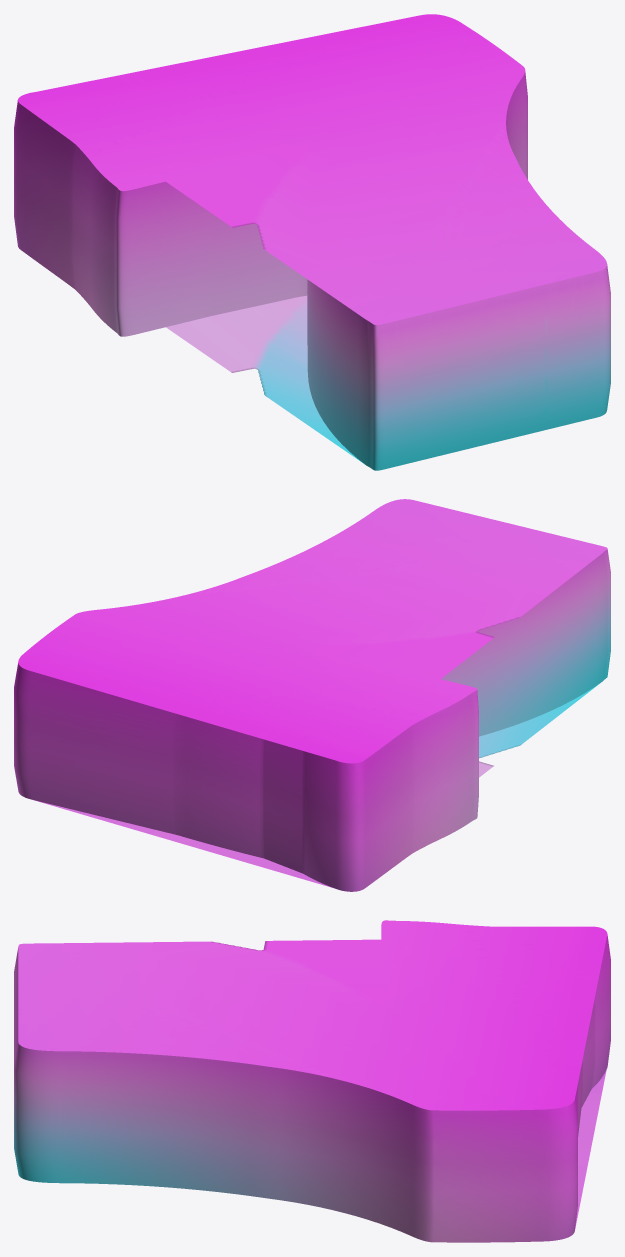
3 renders of one model, top to bottom at view 1: azimuth 30°, elevation 25°; view 2: azimuth 150°, elevation 25°; view 3: azimuth 270°, elevation 25°, orthographic. The views are drawn at different scales.
Parts seen in each view (by area): view 1: Curve.007; view 2: Curve.007; view 3: Curve.007.
Boxes of the visible parts, x1=… form: Curve.007: x1=14, y1=14, x2=610, y2=470; Curve.007: x1=14, y1=499, x2=610, y2=891; Curve.007: x1=14, y1=920, x2=610, y2=1242.
Bounding box in the file's own units: 35.59 × 11.36 × 46.58.
1 material, 1 textured.
